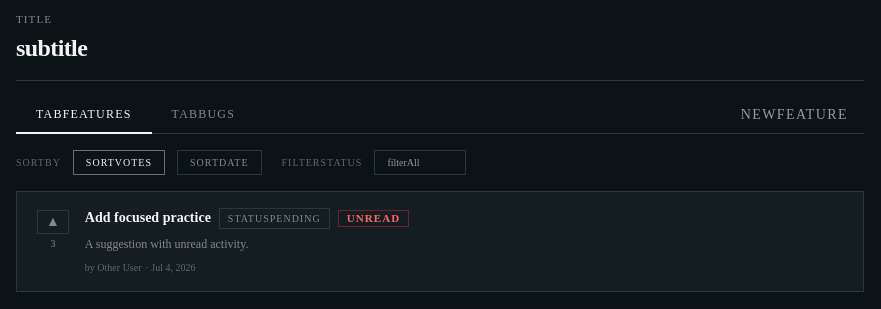
Test: FeedbackPage list and entry actions › toggles a feature vote and reflects the updated count
Expected: the text "Add focused practice" is shown, x1=85 y1=208 x2=211 y2=228
Click the button named "voteAction" at (53, 222), box x1=37 y1=210 x2=69 y2=234
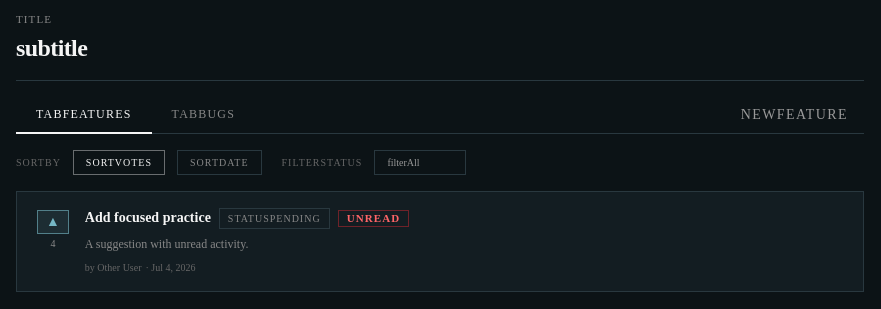
Result: the text "4" is shown at x1=50 y1=236 x2=55 y2=250
Click the button named "removeVoteAction" at (53, 222), box x1=37 y1=210 x2=69 y2=234
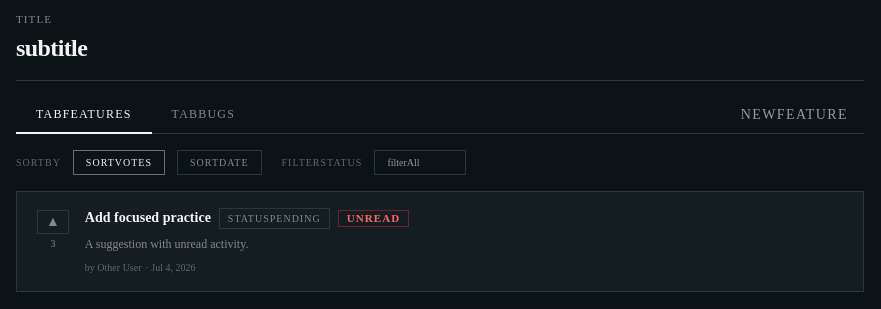
Result: the text "3" is shown at x1=50 y1=236 x2=55 y2=250
